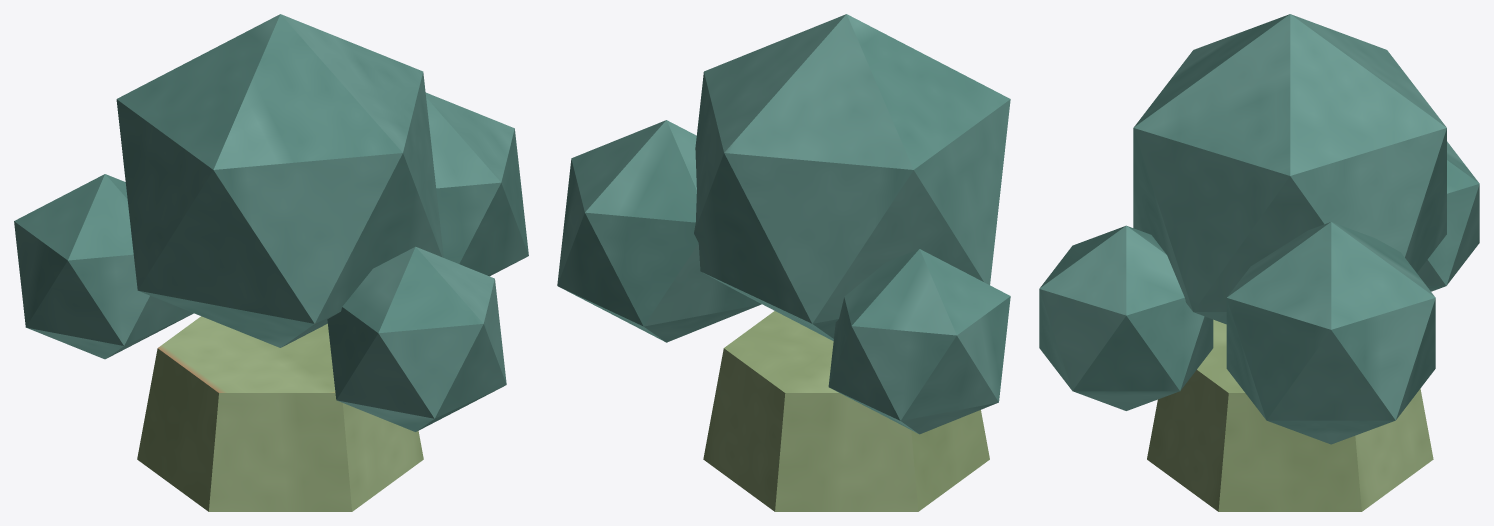
Rendered from sm_flora_bulbcluster.glb.
3 views of the same model, side by side, from view 1: azimuth 30°, elevation 25°; view 2: azimuth 150°, elevation 25°; view 3: azimuth 270°, elevation 25° (orthographic).
Parts seen in each view (by area): view 1: sm_flora_bulbcluster; view 2: sm_flora_bulbcluster; view 3: sm_flora_bulbcluster.
Boxes of the visible parts, left/top/right/bottom form: sm_flora_bulbcluster: left=14, top=14, right=528, bottom=511; sm_flora_bulbcluster: left=557, top=14, right=1010, bottom=511; sm_flora_bulbcluster: left=1039, top=14, right=1479, bottom=511.
Size of the model in its own units: 0.2584 by 0.24 by 0.2151.
1 material, 1 textured.
